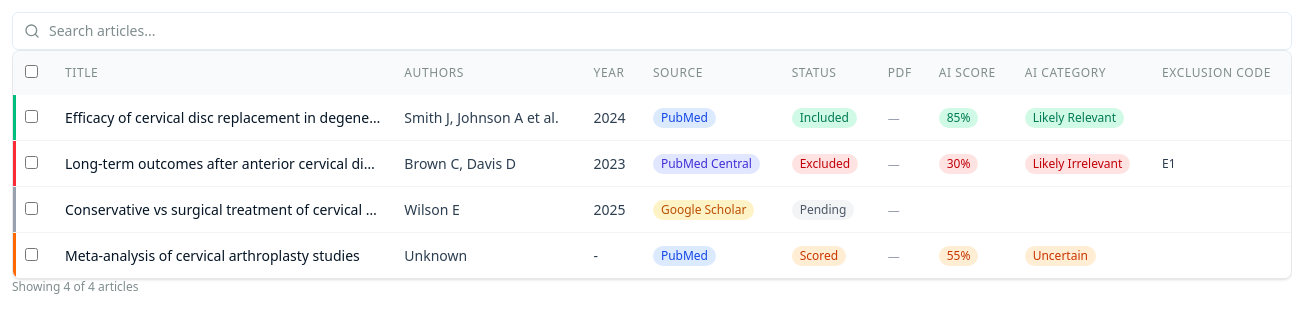
Scenario: ArticleTable › deselects all when select-all is clicked while all selected
This screenshot has width=1304, height=331.
Expected: the row with test id "article-row-art-1" is shown, [13,95,1291,140]
Select all
Click the checkbox with test id "select-all-checkbox": (32, 72) [25,65,38,78]
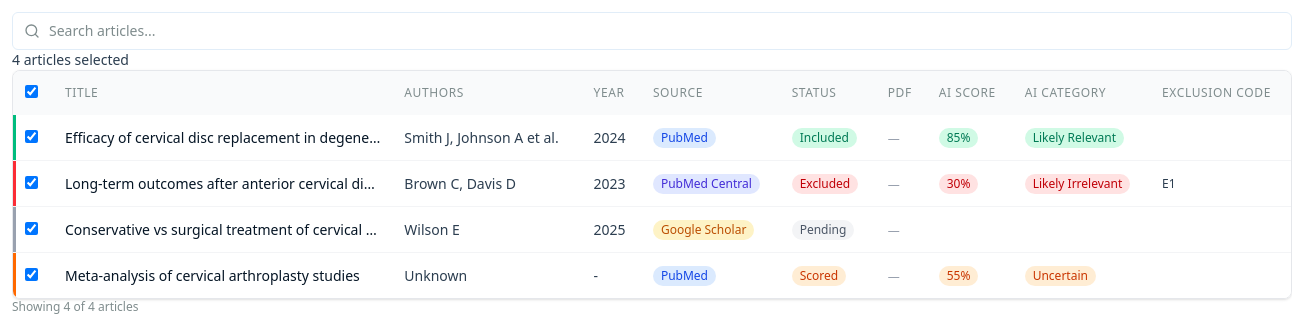
Now the text with test id "selection-count" reads "4 articles selected", box [12,50,129,69]
Deselect all
Click the checkbox with test id "select-all-checkbox": (32, 92) [25,85,38,98]
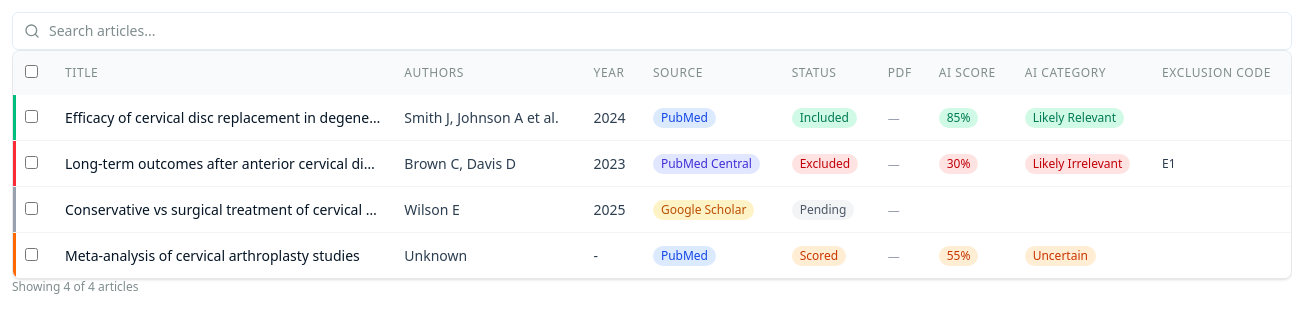
Now the text with test id "selection-count" is gone
